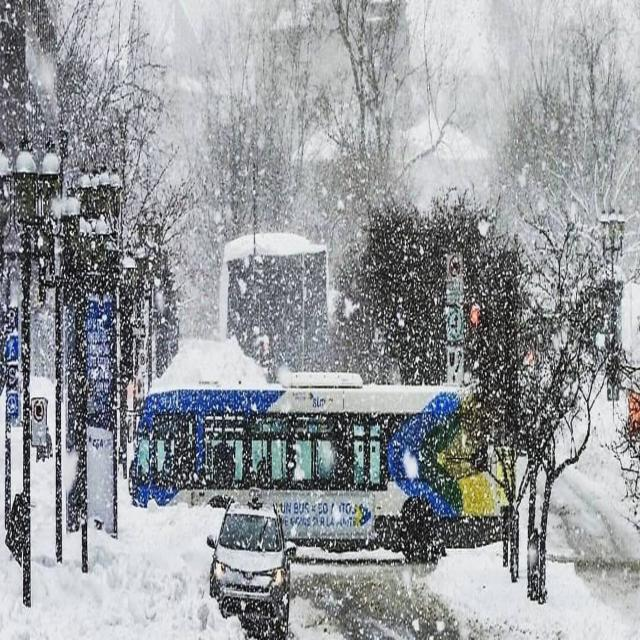car: (208, 498, 294, 637)
truck: (130, 387, 502, 551)
